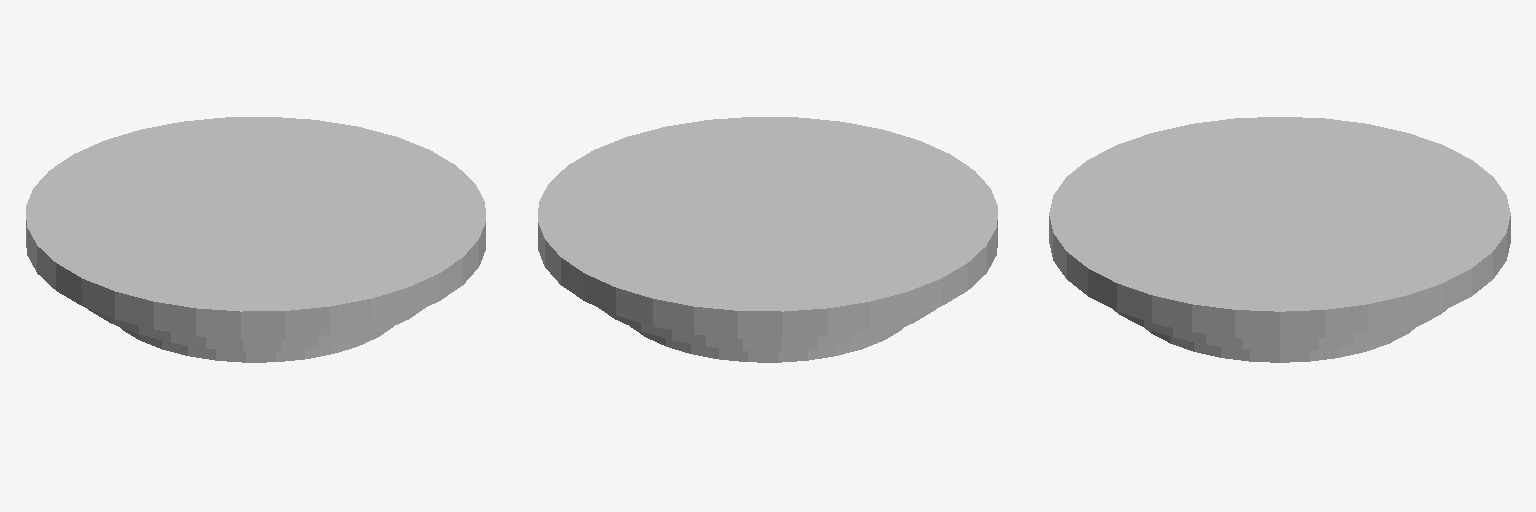
The model's file is podium.obj.
3 views of the same model, side by side, from view 1: azimuth 30°, elevation 25°; view 2: azimuth 150°, elevation 25°; view 3: azimuth 270°, elevation 25° (orthographic).
Parts seen in each view (by area): view 1: Cylinder, Cylinder.002, Cylinder.001; view 2: Cylinder, Cylinder.002, Cylinder.001; view 3: Cylinder, Cylinder.002, Cylinder.001.
Boxes of the visible parts, x1,y1,x2,y2 form: Cylinder: [26, 117, 485, 338]; Cylinder.002: [87, 308, 424, 350]; Cylinder.001: [118, 326, 393, 362]; Cylinder: [538, 117, 997, 338]; Cylinder.002: [599, 308, 936, 350]; Cylinder.001: [630, 326, 905, 362]; Cylinder: [1049, 117, 1510, 339]; Cylinder.002: [1113, 309, 1446, 350]; Cylinder.001: [1145, 328, 1414, 362].
Size of the model in its own units: 6 by 1.2 by 6.